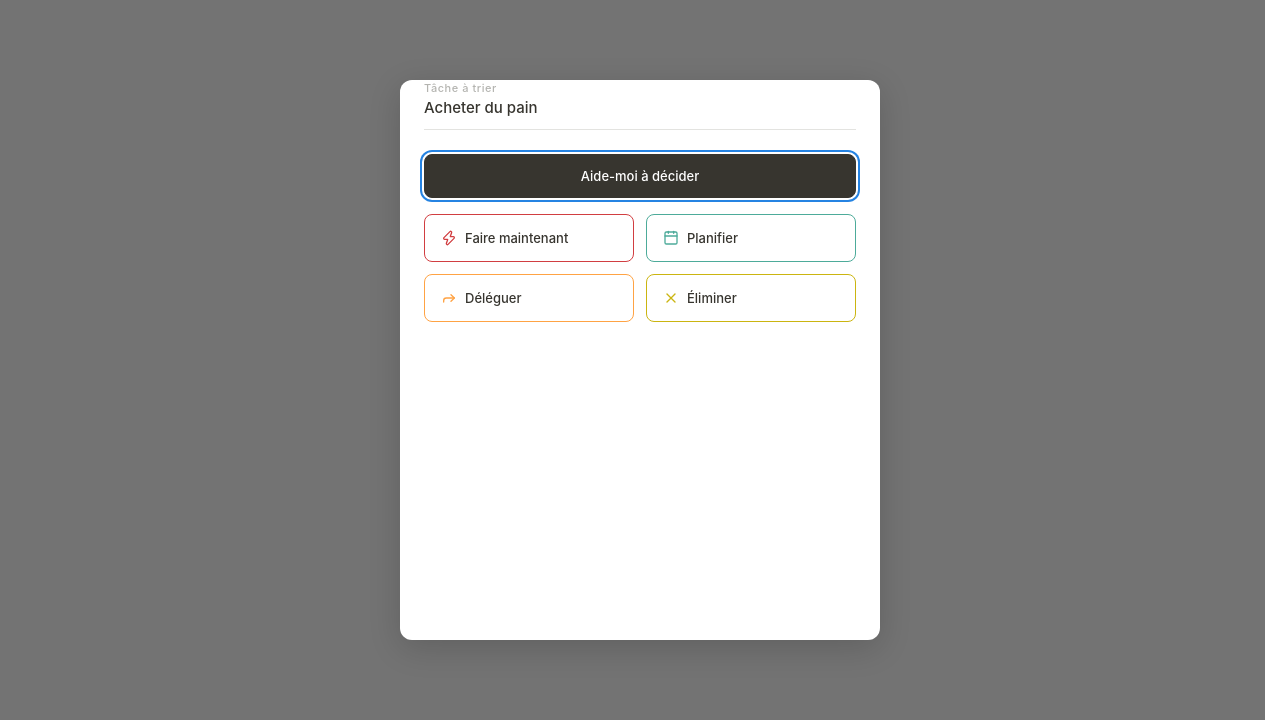
Test: SortingOverlay › skips confirmation for manual classification (userOverride null)
What coordinates should you click on to do the following:
click the button with aria-label "Classer dans Faire maintenant"
I would click on:
 (529, 238)
Its box is [424,214,634,262].
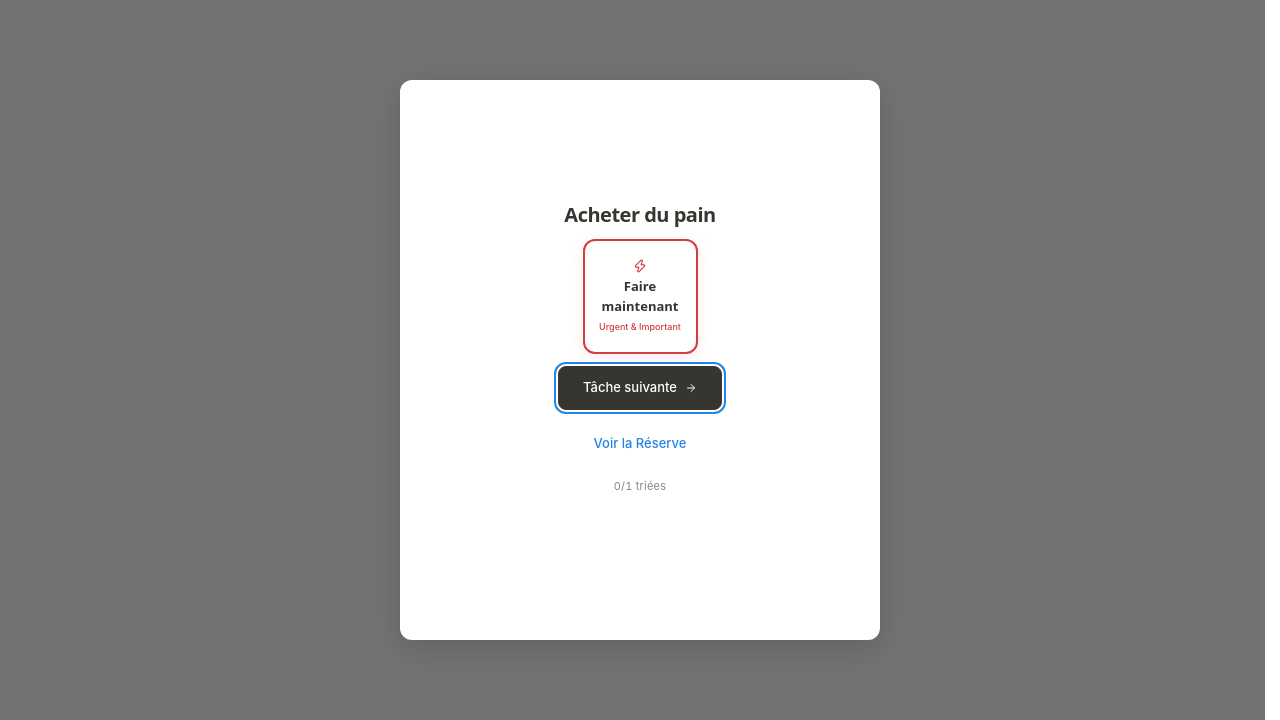
expect the button "Voir la Réserve" is shown: met, box [569,422,712,466]
